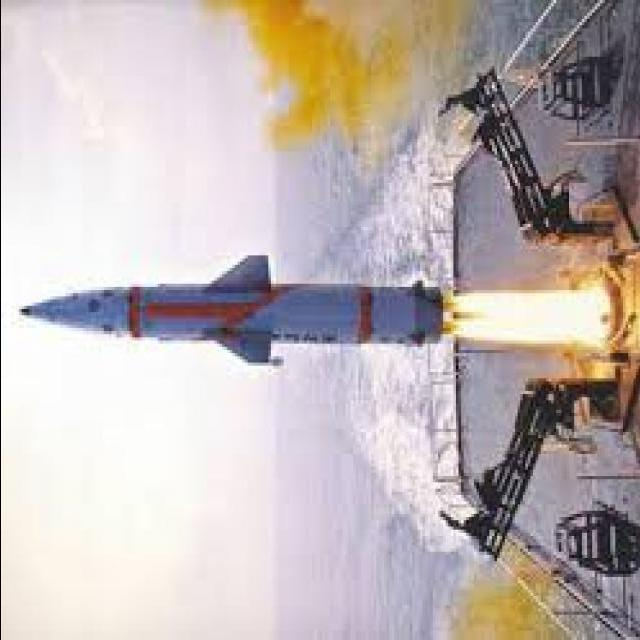Missile: (0, 244, 452, 376)
